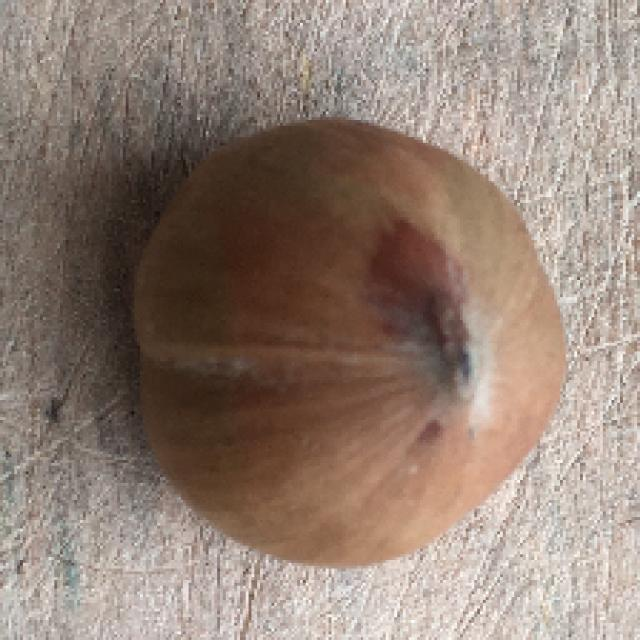qualityHazelnut: (110, 115, 567, 578)
